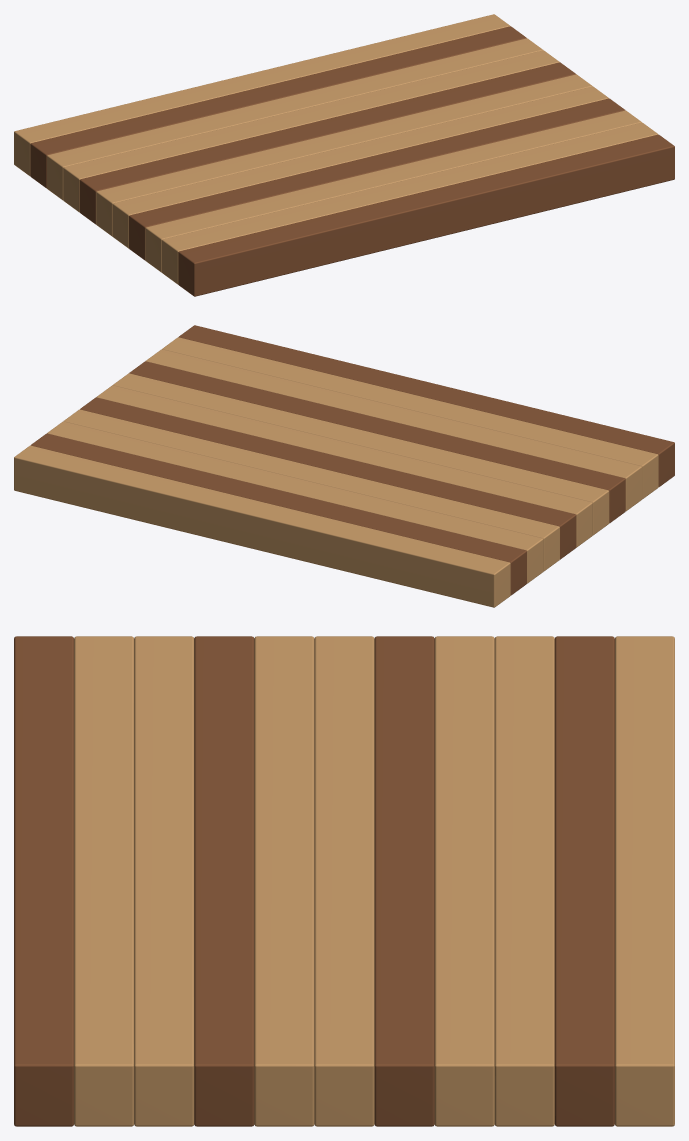
The model's file is CuttingBoard.glb.
3 views of the same model, one above another, from view 1: azimuth 30°, elevation 25°; view 2: azimuth 150°, elevation 25°; view 3: azimuth 270°, elevation 25° (orthographic). The views are drawn at different scales.
Parts seen in each view (by area): view 1: Edge grain stave, Edge grain stave.001, Edge grain stave.002, Edge grain stave.003, Edge grain stave.007, Edge grain stave.010, Edge grain stave.006, Edge grain stave.008, Edge grain stave.004, Edge grain stave.005, Edge grain stave.009; view 2: Edge grain stave.010, Edge grain stave, Edge grain stave.003, Edge grain stave.007, Edge grain stave.008, Edge grain stave.009, Edge grain stave.002, Edge grain stave.004, Edge grain stave.001, Edge grain stave.005, Edge grain stave.006; view 3: Edge grain stave.002, Edge grain stave.003, Edge grain stave.007, Edge grain stave.008, Edge grain stave.001, Edge grain stave.004, Edge grain stave.006, Edge grain stave.009, Edge grain stave.005, Edge grain stave, Edge grain stave.010.
Boxes of the visible parts, x1=… form: Edge grain stave: x1=178, y1=134, x2=674, y2=296; Edge grain stave.001: x1=162, y1=122, x2=658, y2=284; Edge grain stave.002: x1=145, y1=110, x2=641, y2=272; Edge grain stave.003: x1=129, y1=98, x2=625, y2=260; Edge grain stave.007: x1=63, y1=50, x2=559, y2=212; Edge grain stave.010: x1=14, y1=14, x2=510, y2=175; Edge grain stave.006: x1=79, y1=62, x2=575, y2=224; Edge grain stave.008: x1=47, y1=38, x2=542, y2=200; Edge grain stave.004: x1=112, y1=86, x2=608, y2=248; Edge grain stave.005: x1=96, y1=74, x2=592, y2=236; Edge grain stave.009: x1=30, y1=26, x2=526, y2=188; Edge grain stave.010: x1=14, y1=445, x2=510, y2=607; Edge grain stave: x1=178, y1=325, x2=674, y2=486; Edge grain stave.003: x1=129, y1=361, x2=625, y2=523; Edge grain stave.007: x1=63, y1=409, x2=559, y2=571; Edge grain stave.008: x1=47, y1=421, x2=543, y2=583; Edge grain stave.009: x1=30, y1=433, x2=526, y2=595; Edge grain stave.002: x1=146, y1=349, x2=641, y2=511; Edge grain stave.004: x1=113, y1=373, x2=609, y2=535; Edge grain stave.001: x1=162, y1=337, x2=658, y2=499; Edge grain stave.005: x1=96, y1=385, x2=592, y2=547; Edge grain stave.006: x1=80, y1=397, x2=576, y2=559; Edge grain stave.002: x1=134, y1=636, x2=194, y2=1126; Edge grain stave.003: x1=194, y1=636, x2=254, y2=1126; Edge grain stave.007: x1=434, y1=636, x2=494, y2=1126; Edge grain stave.008: x1=494, y1=636, x2=554, y2=1126; Edge grain stave.001: x1=74, y1=636, x2=134, y2=1126; Edge grain stave.004: x1=254, y1=636, x2=314, y2=1126; Edge grain stave.006: x1=374, y1=636, x2=434, y2=1126; Edge grain stave.009: x1=554, y1=636, x2=614, y2=1126; Edge grain stave.005: x1=314, y1=636, x2=374, y2=1126; Edge grain stave: x1=14, y1=636, x2=73, y2=1126; Edge grain stave.010: x1=615, y1=636, x2=674, y2=1126.
Size of the model in its own units: 0.355 by 0.024 by 0.231.
